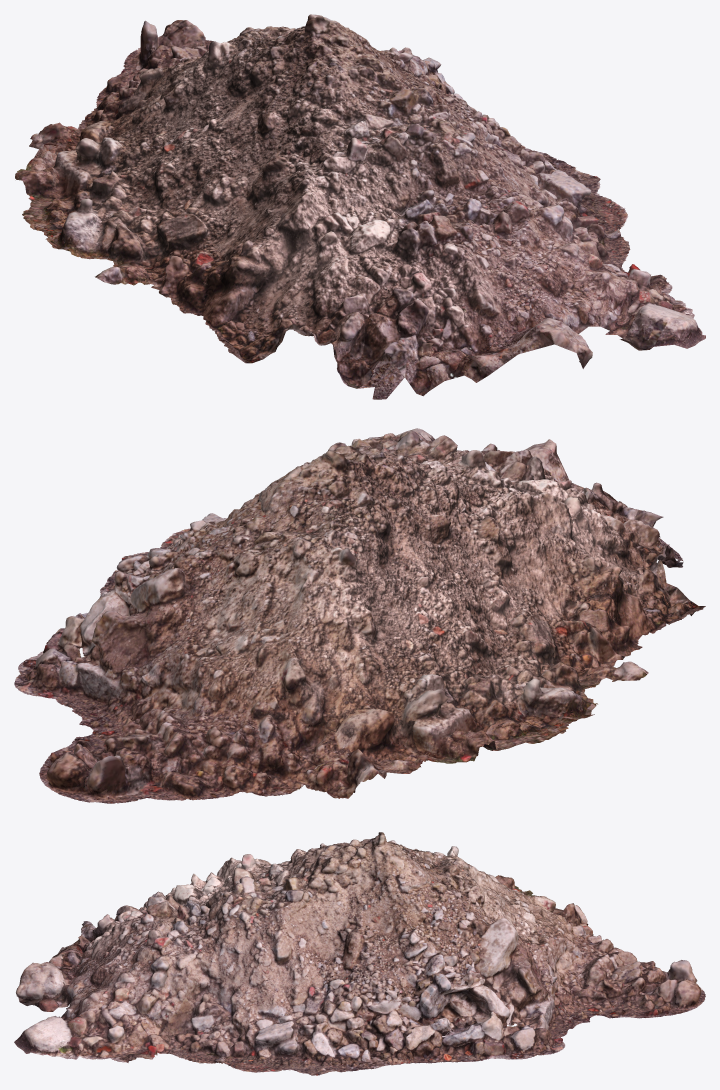
The model's file is optimized_rubble_photoscan.glb.
3 views of the same model, one above another, from view 1: azimuth 30°, elevation 25°; view 2: azimuth 150°, elevation 25°; view 3: azimuth 270°, elevation 25° (orthographic). The views are drawn at different scales.
Visible parts, largest first — view 1: bake_0; view 2: bake_0; view 3: bake_0.
Part boxes in pixels (x1,y1,x2,y2): bake_0: [15, 14, 705, 399]; bake_0: [14, 428, 705, 803]; bake_0: [14, 832, 705, 1075].
Bounding box in the file's own units: 2.89 × 1.16 × 4.39.
Materials: 1 (1 with a texture image).
